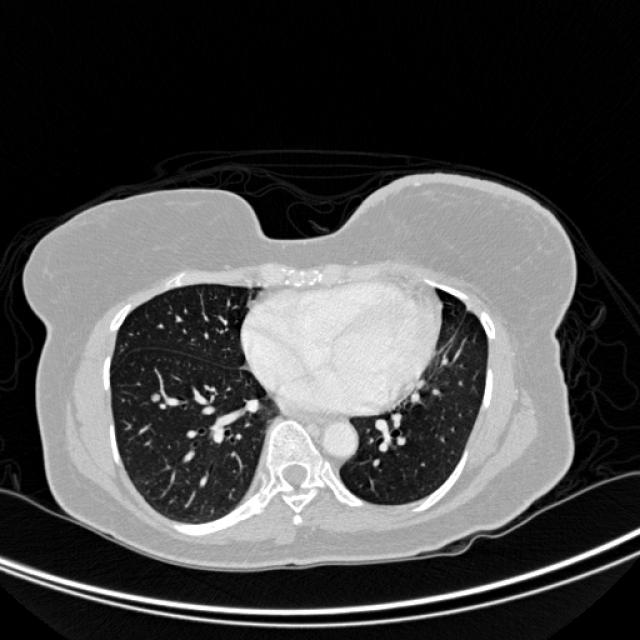nodule: (143, 385, 165, 407)
